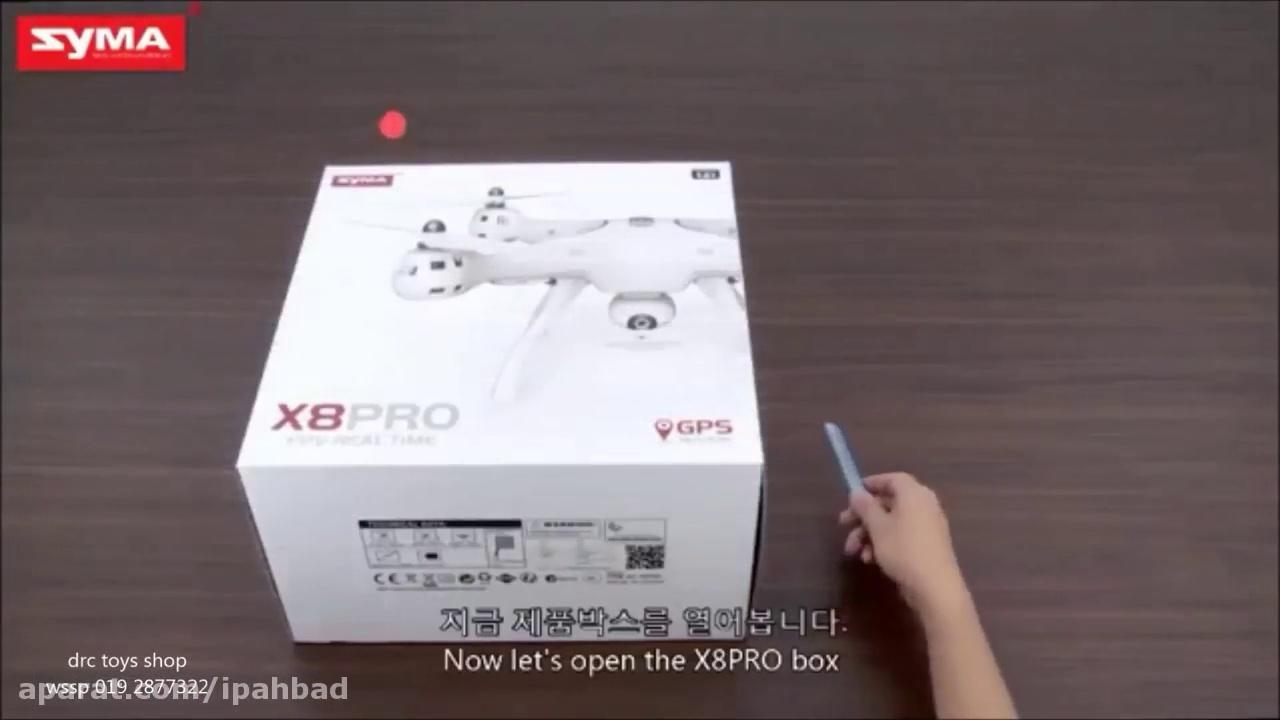drone: (339, 184, 750, 398)
